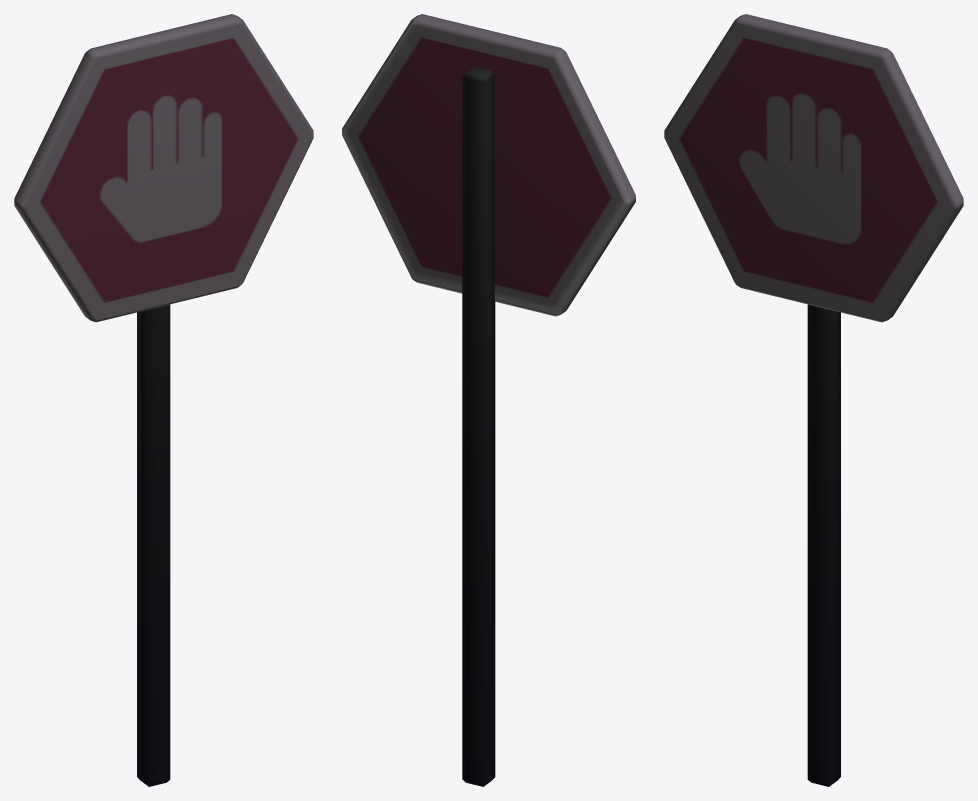
The model's file is mesh_stopSign.fbx.
3 views of the same model, side by side, from view 1: azimuth 30°, elevation 25°; view 2: azimuth 150°, elevation 25°; view 3: azimuth 330°, elevation 25° (orthographic).
Visible parts, largest first — view 1: mesh_stopSign; view 2: mesh_stopSign; view 3: mesh_stopSign.
Boxes of the visible parts, box(x1,y1,x2,y2) form: mesh_stopSign: box(14, 14, 313, 786); mesh_stopSign: box(342, 14, 635, 786); mesh_stopSign: box(664, 14, 963, 786).
Bounding box in the file's own units: 78.99 × 194 × 9.84.
